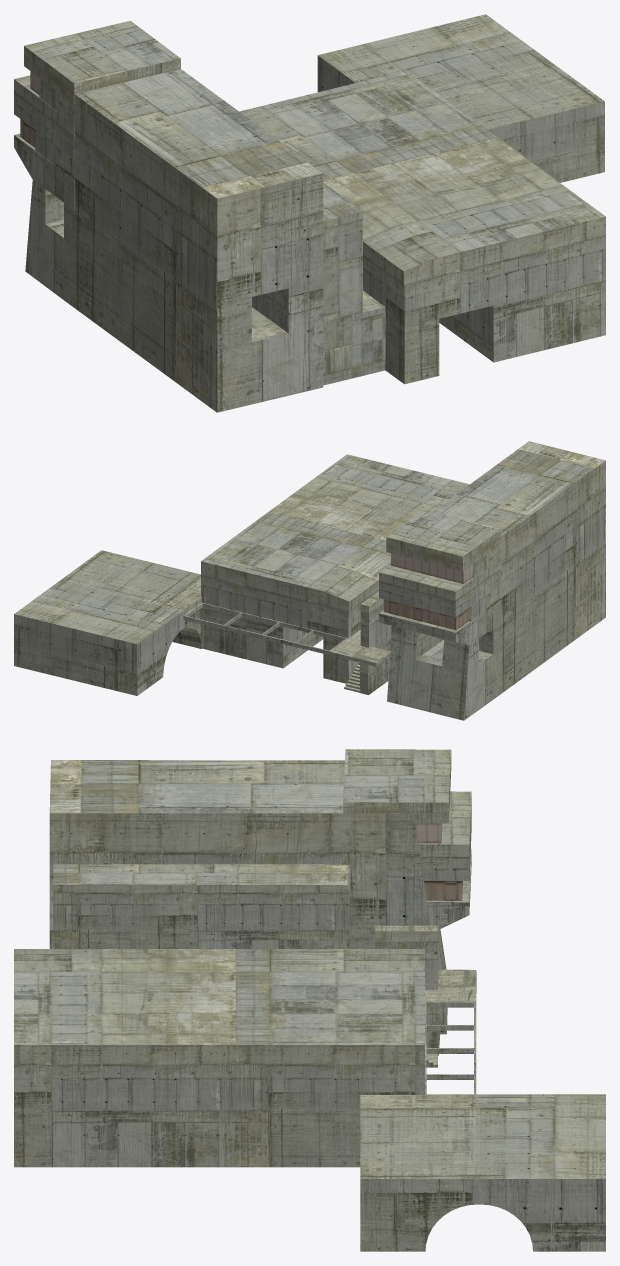
The picture shows the model from 3 angles, top to bottom: view 1: azimuth 30°, elevation 25°; view 2: azimuth 150°, elevation 25°; view 3: azimuth 270°, elevation 25°; orthographic projection. The views are drawn at different scales.
Visible parts, largest first — view 1: SM_HK_03_10; view 2: SM_HK_03_10; view 3: SM_HK_03_10.
Boxes of the visible parts, x1=… form: SM_HK_03_10: x1=14, y1=14, x2=605, y2=412; SM_HK_03_10: x1=14, y1=441, x2=605, y2=720; SM_HK_03_10: x1=14, y1=749, x2=605, y2=1251.
Bounding box in the file's own units: 5674 × 2280 × 5247.
